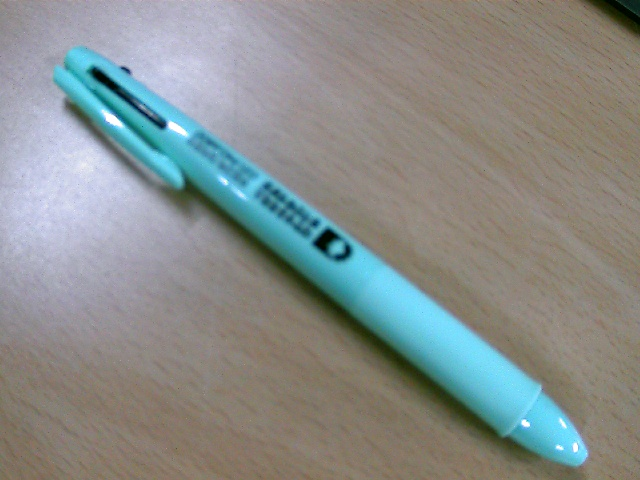pen: (54, 44, 594, 468)
